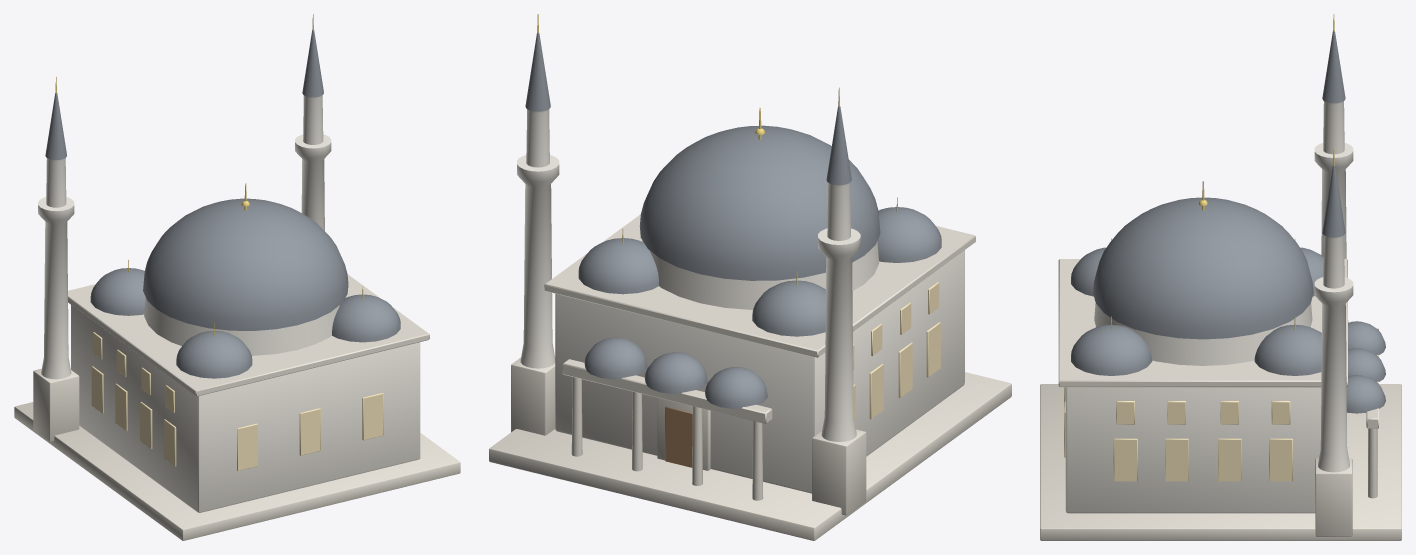
Rendered from Istanbul_Mosque.fbx.
3 renders of one model, left to right at view 1: azimuth 30°, elevation 25°; view 2: azimuth 150°, elevation 25°; view 3: azimuth 270°, elevation 25°, orthographic. The views are drawn at different scales.
Parts seen in each view (by area): view 1: Istanbul_Mosque; view 2: Istanbul_Mosque; view 3: Istanbul_Mosque.
Boxes of the visible parts, x1=… form: Istanbul_Mosque: x1=14, y1=14, x2=460, y2=540; Istanbul_Mosque: x1=489, y1=14, x2=1011, y2=540; Istanbul_Mosque: x1=1040, y1=14, x2=1401, y2=540.
Bounding box in the file's own units: 20.24 × 24.23 × 20.5.
